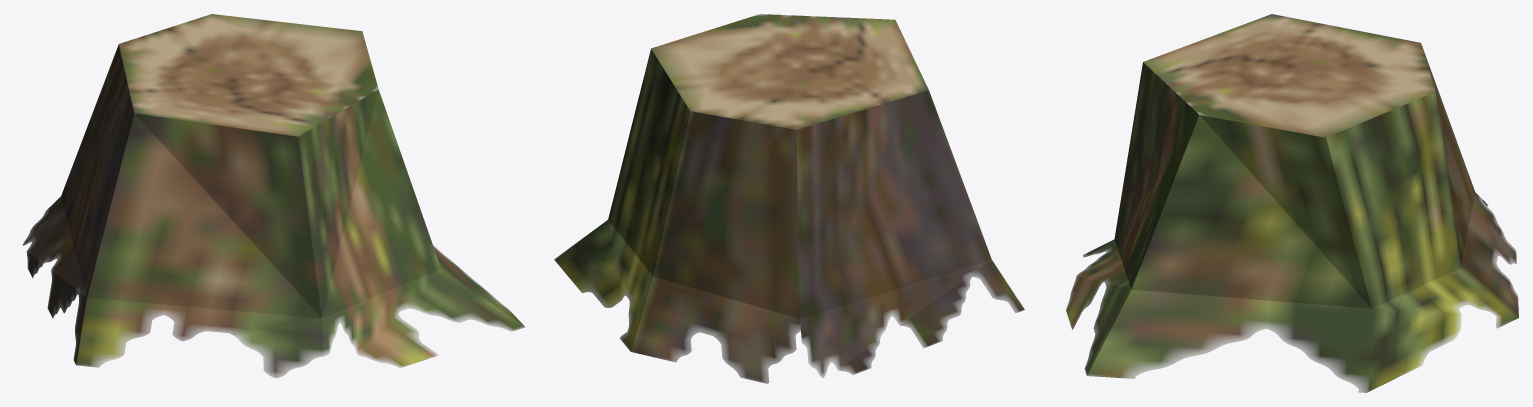
Rendered from stump1.dae.
3 renders of one model, left to right at view 1: azimuth 30°, elevation 25°; view 2: azimuth 150°, elevation 25°; view 3: azimuth 270°, elevation 25°, orthographic.
Visible parts, largest first — view 1: Stump; view 2: Stump; view 3: Stump.
Boxes of the visible parts, left/top/right/bottom form: Stump: left=22, top=14, right=525, bottom=378; Stump: left=554, top=14, right=1024, bottom=383; Stump: left=1066, top=14, right=1518, bottom=392.
Bounding box in the file's own units: 1.6 × 1.58 × 0.8107.
Materials: 1 (1 with a texture image).
